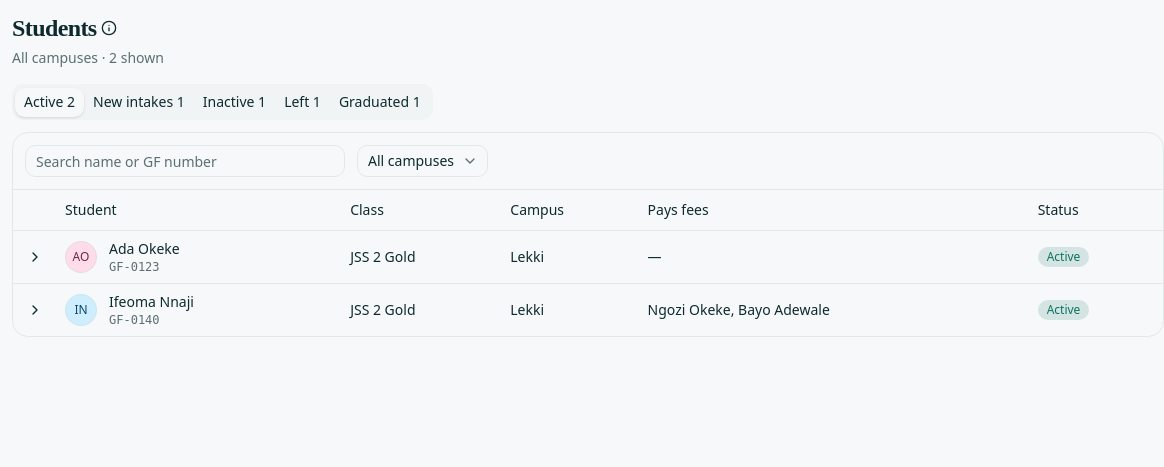
StudentsPage permissions › offers Add guardian with guardian:link and disables it at the maximum
Click the button named "Show guardians of Ada Okeke". click: (35, 256)
box: x1=21 y1=242 x2=49 y2=270
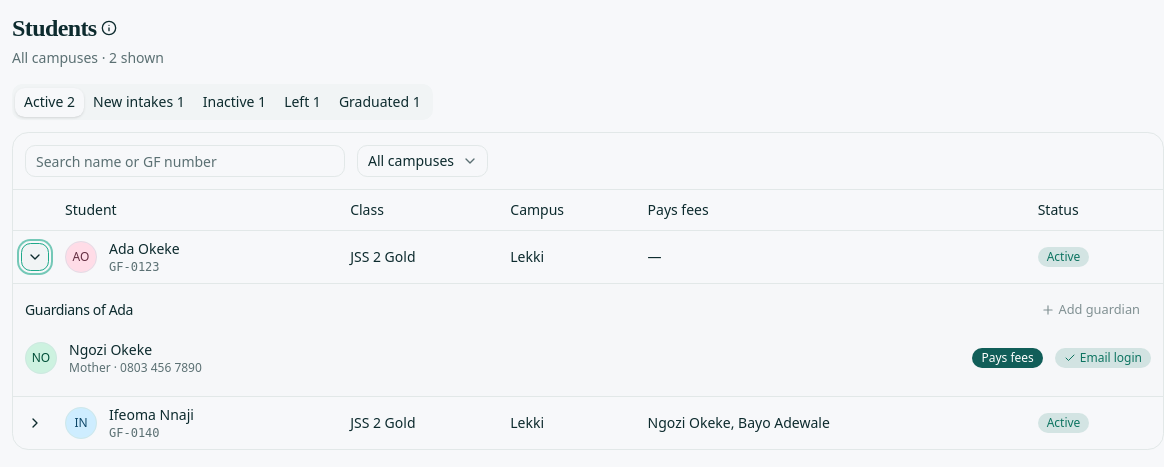
Expected: the button "Ngozi Okeke" is shown, x1=69 y1=340 x2=152 y2=360
Expected: the button "Add guardian" is disabled, x1=1030 y1=296 x2=1151 y2=324
